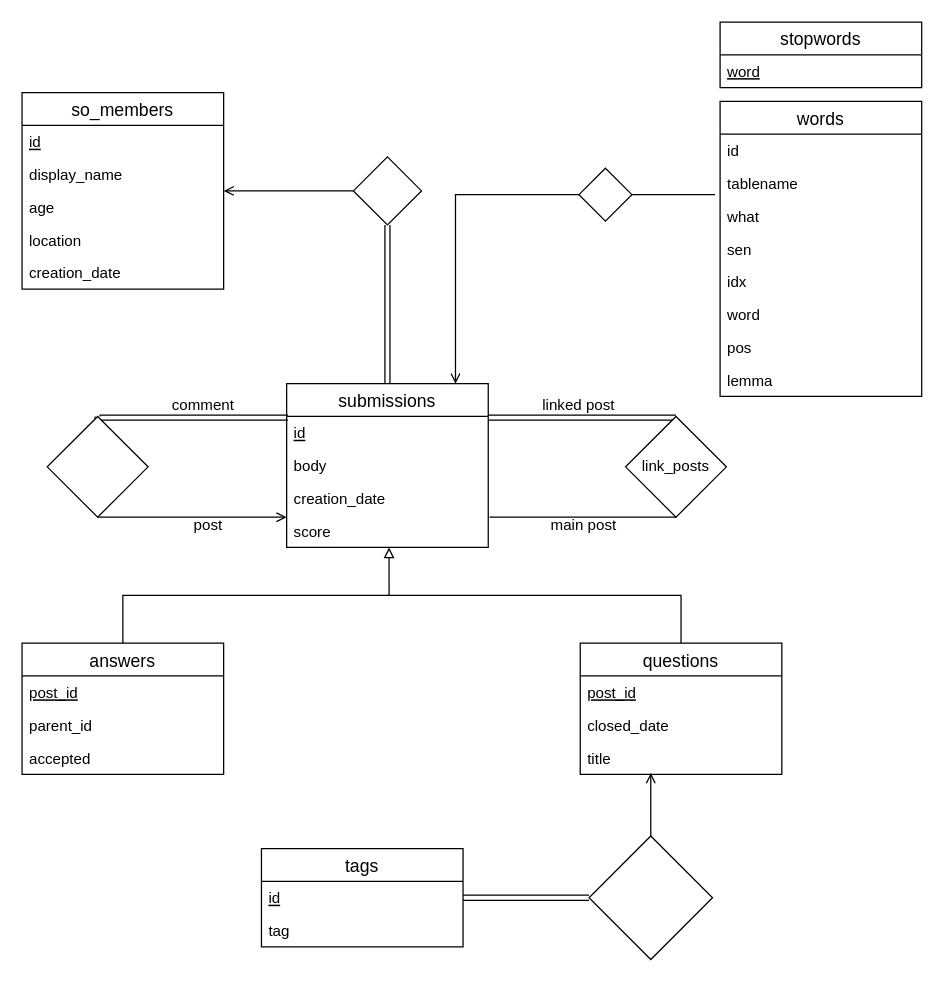
Image size: 944x982. Some labels were removed from this diagram. Each missing label, with the centre of its shape:
comments: point (97, 466)
has: point (605, 194)
makes: point (386, 190)
questions_tags: point (650, 897)
